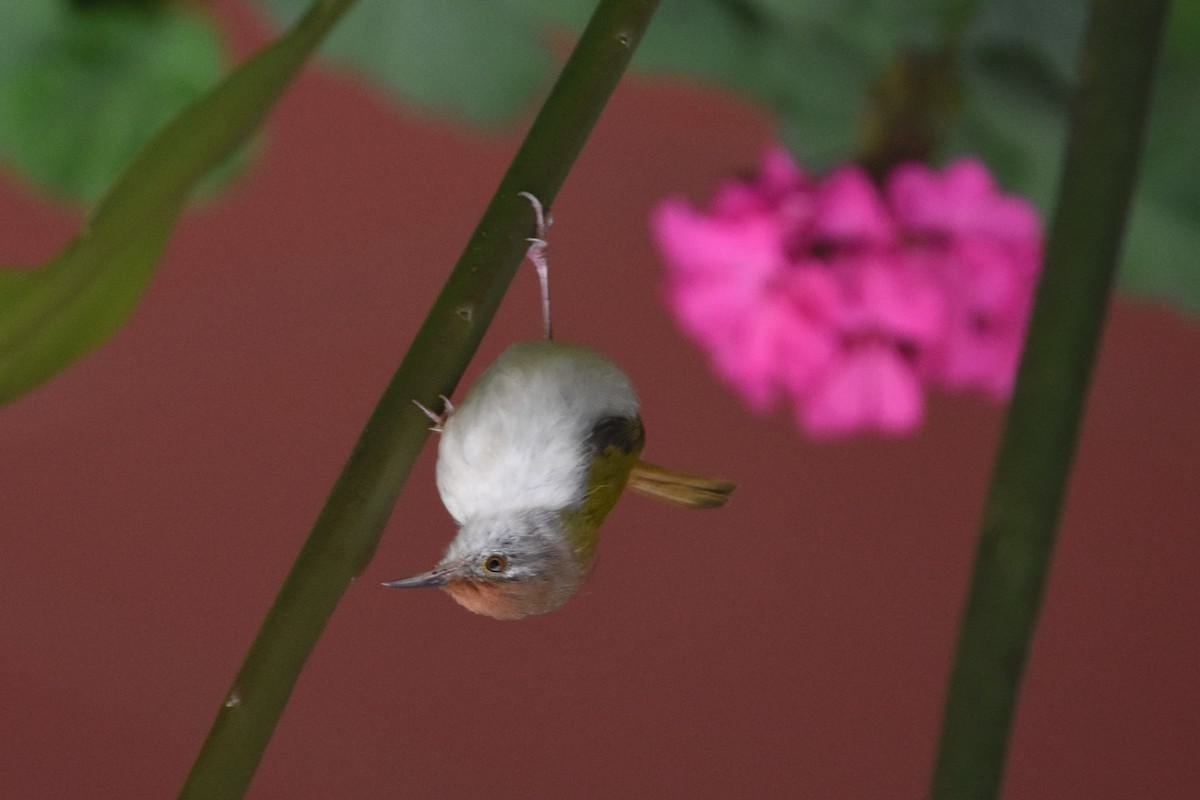tailorbird: (380, 256, 724, 633)
